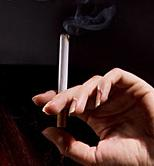smoke: (54, 30, 70, 127)
